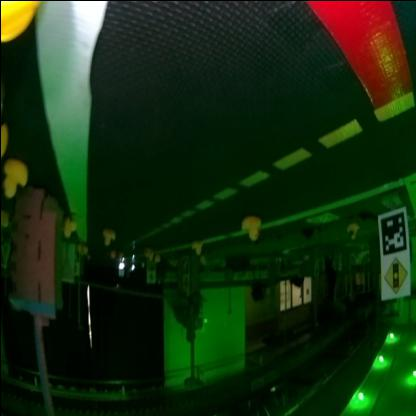Duckie: (2, 160, 26, 200), (240, 219, 260, 240), (64, 218, 74, 238), (101, 230, 113, 246), (346, 224, 358, 238), (190, 243, 200, 254), (143, 249, 149, 257), (109, 250, 115, 258), (152, 255, 158, 262)
QR code: (378, 210, 406, 254), (306, 212, 338, 223)
Signal sign: (380, 256, 408, 297)
